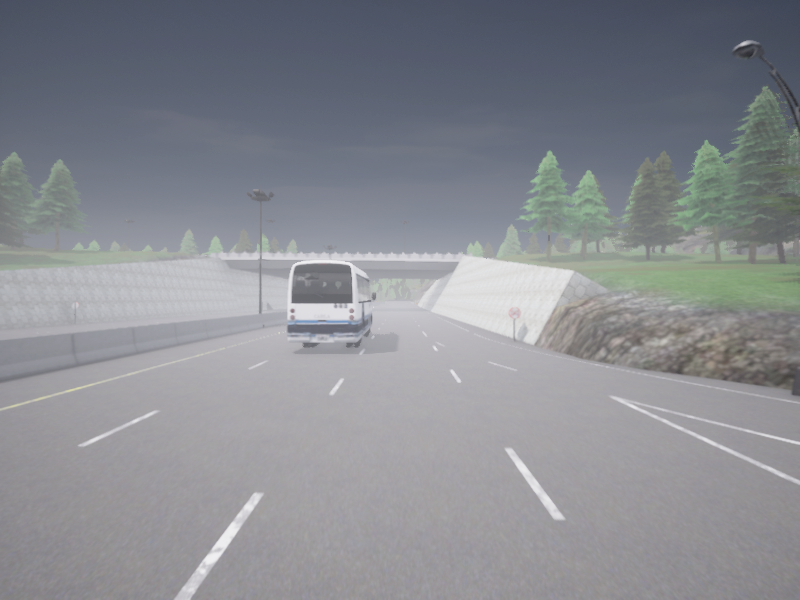vehicle: (287, 261, 375, 346)
